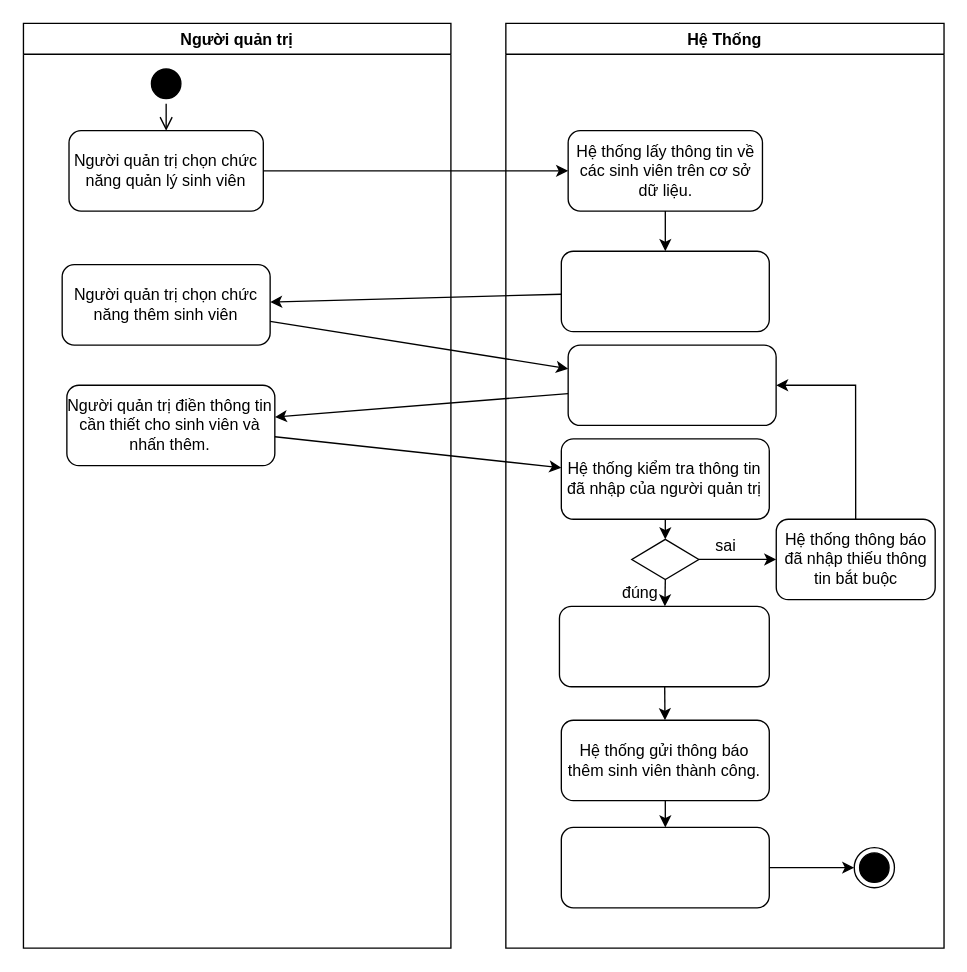
This 967x972 diagram has some shape labels left out. Here are the shapes that lost their labels. From the top down, the centre of each, then its label:
At pixel 664 291: "Hệ thống hiển thị sinh viên lên giao diện quản lý sinh viên.".
At pixel 671 384: "Hệ thống hiển thị giao diện thêm sinh viên.".
At pixel 664 559: "Đủ".
At pixel 663 646: "Hệ thống lưu thông tin sinh viên lên cơ sở dữ liệu.".
At pixel 664 867: "Hệ thống hiển trị giao diện quản lý sinh viên.".
